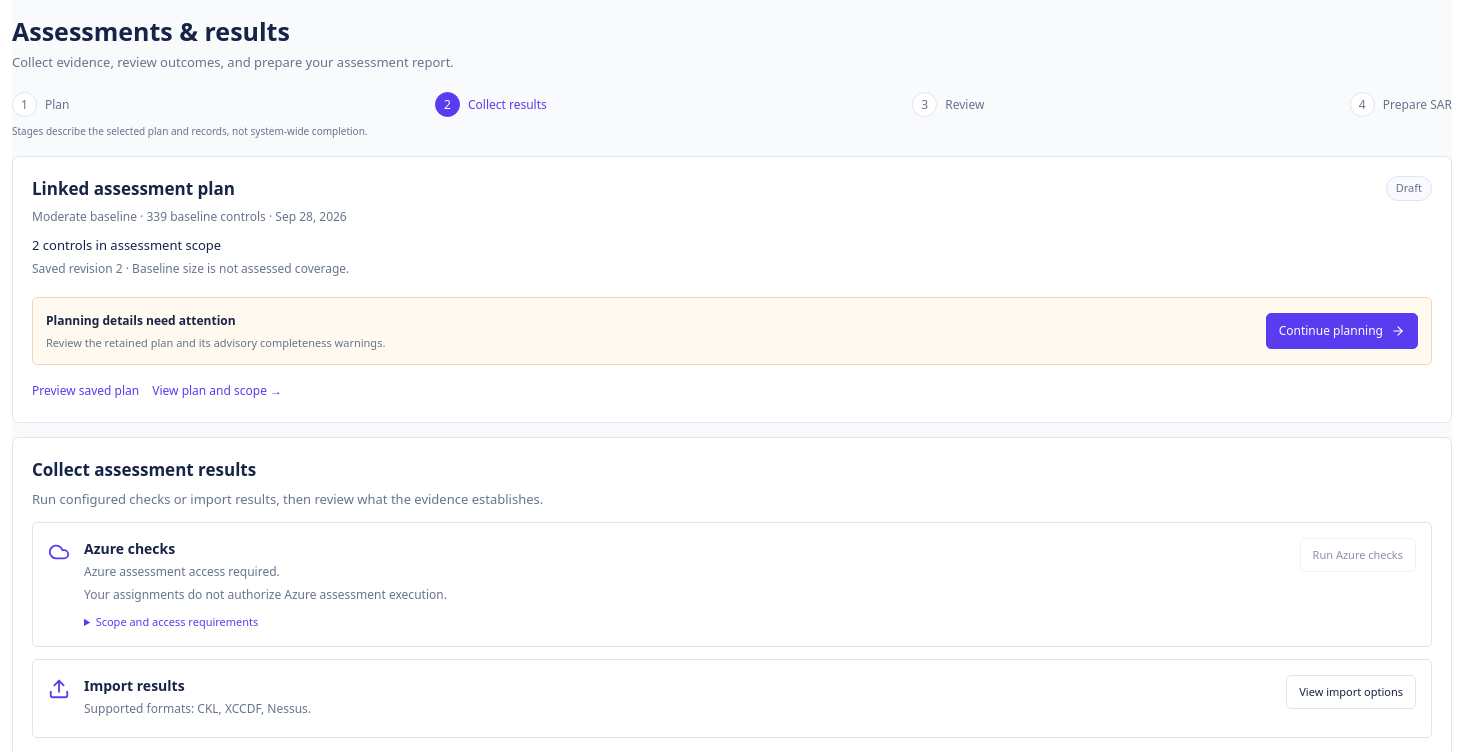
Test: Assessment collection admission and recovery › refreshes readiness without executing collection
The image size is (1464, 751).
Check: the button "Run Azure checks" is shown, box [1300,538,1416,572]
Step 1. Click the heading "Scope and access requirements" → (177, 622), box [96,614,258,629]
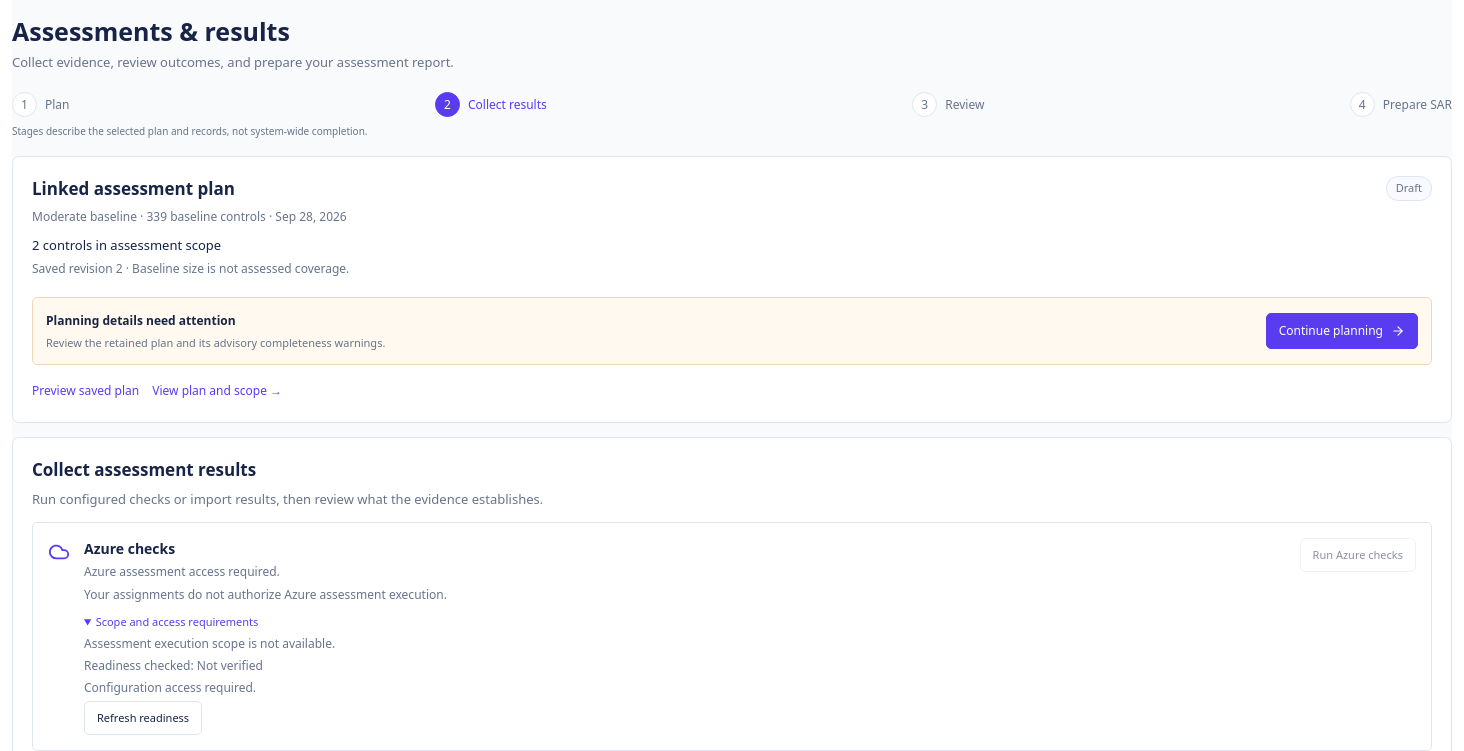
Step 2. Click the button "Refresh readiness" → (143, 718), box [84,701,202,735]
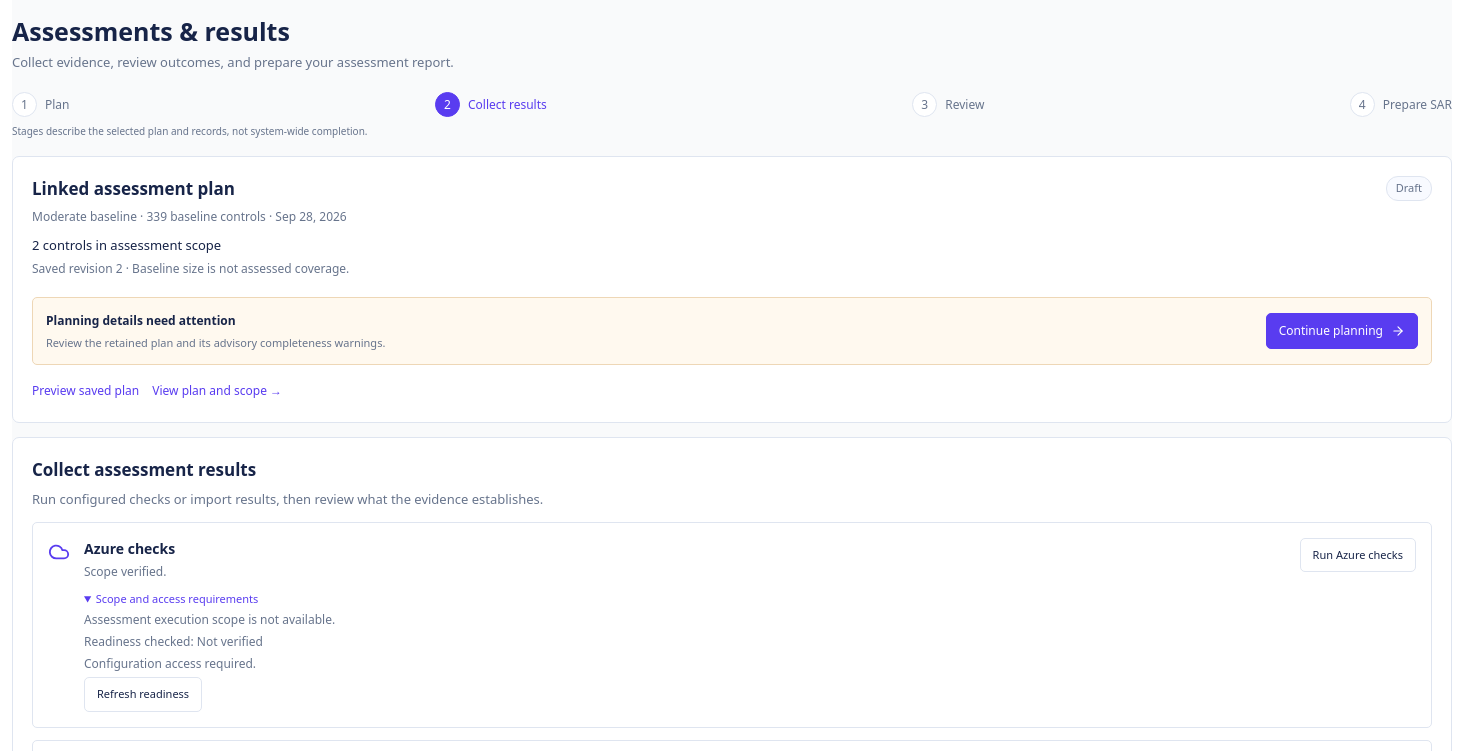
Check: the button "Run Azure checks" is enabled, box [1300,538,1416,572]
